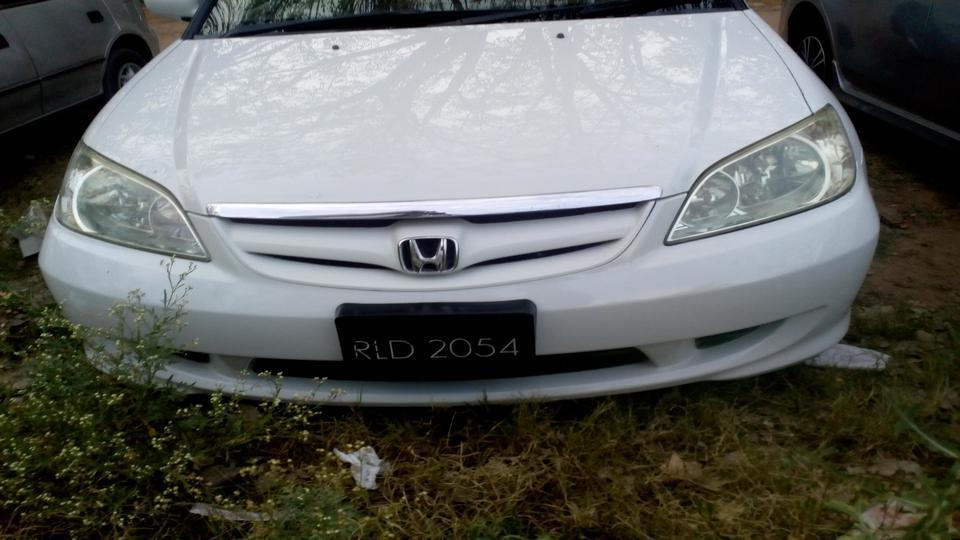NumberPlate: (337, 307, 545, 376)
